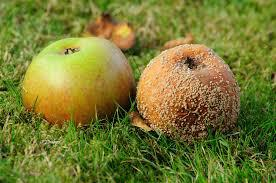apple: (24, 40, 133, 123)
